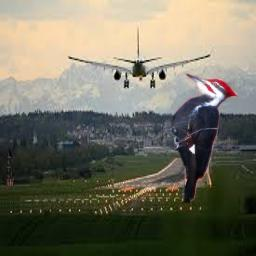Woodpecker: (163, 73, 238, 203)
